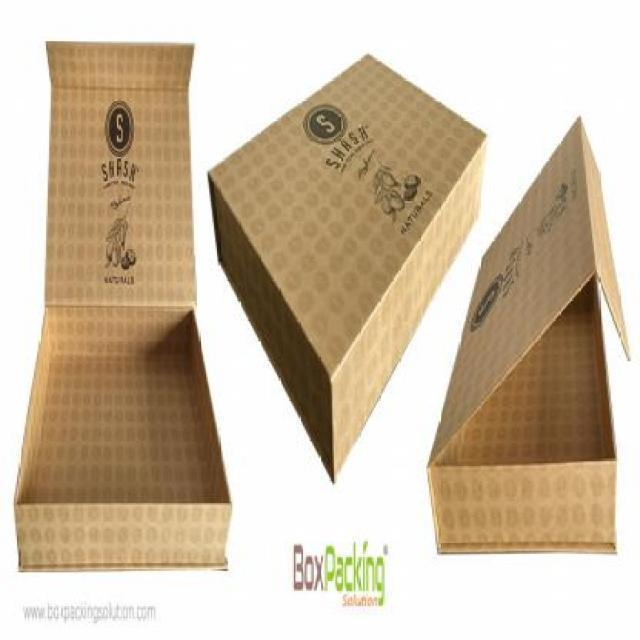box: (208, 50, 491, 484), (17, 36, 236, 574), (431, 115, 632, 561)
